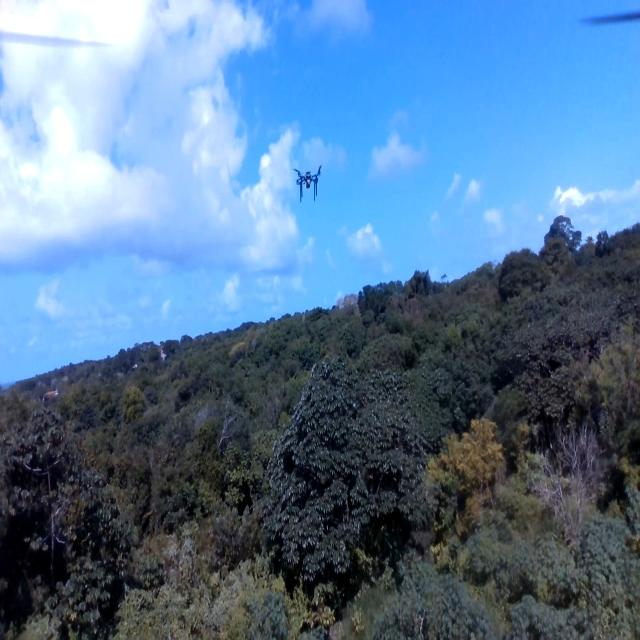-uav-: (286, 157, 332, 209)
